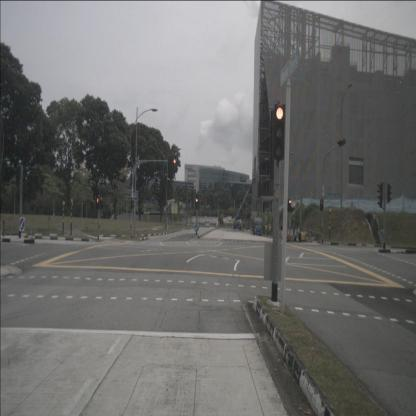vehicle-car: (205, 220, 209, 228)
vehicle-truck: (250, 218, 262, 236)
